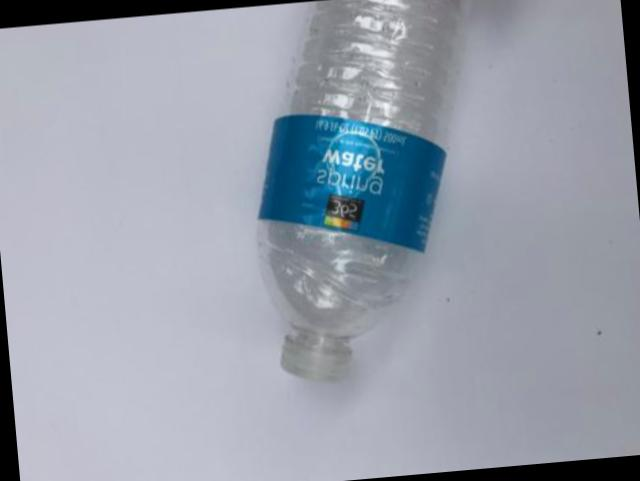plastic: (256, 0, 459, 382)
